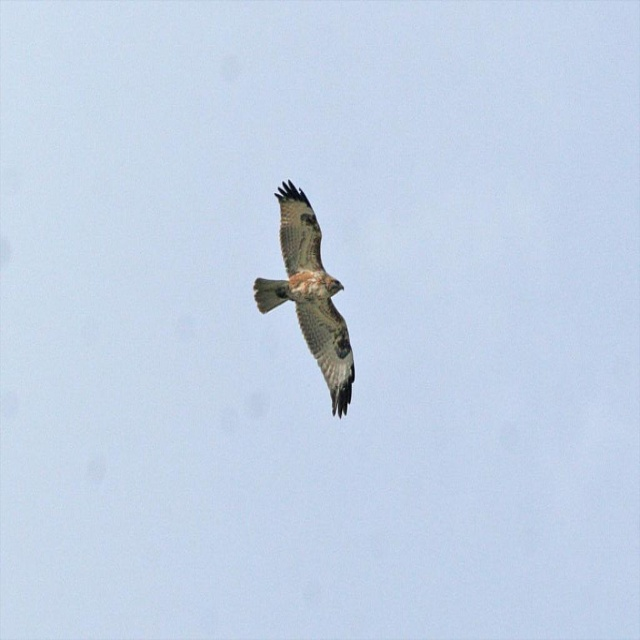Eagle: (254, 173, 360, 420)
